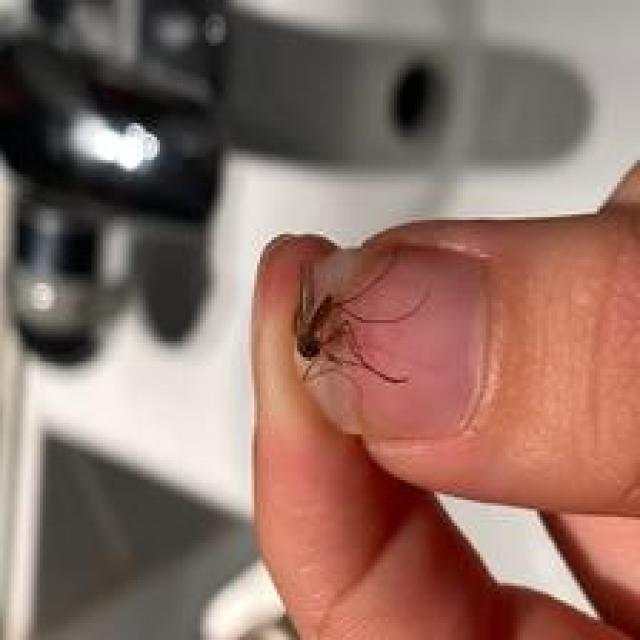Culex: (292, 247, 432, 390)
